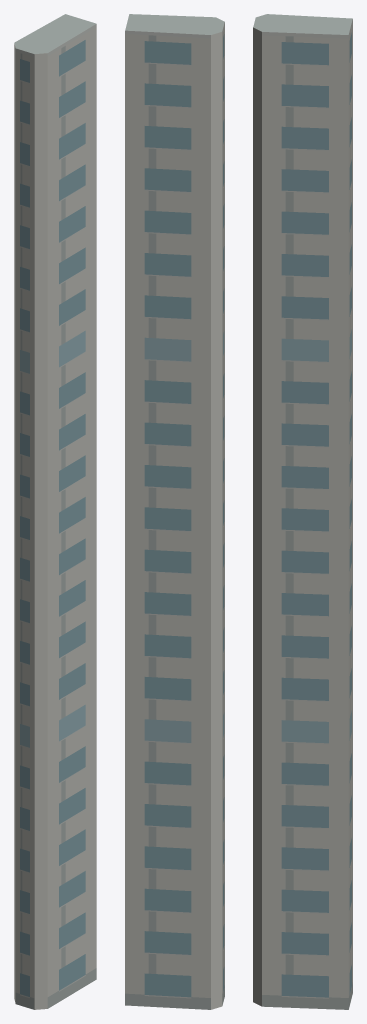
Rendered from survey-upis-32520841.glb.
The picture shows the model from 3 angles, left to right: view 1: azimuth 30°, elevation 25°; view 2: azimuth 150°, elevation 25°; view 3: azimuth 330°, elevation 25°; orthographic projection.
Visible parts, largest first — view 1: survey-upis-32520841.tmp; view 2: survey-upis-32520841.tmp; view 3: survey-upis-32520841.tmp.
Boxes of the visible parts, left/top/right/bottom form: survey-upis-32520841.tmp: left=14, top=14, right=96, bottom=1009; survey-upis-32520841.tmp: left=125, top=14, right=224, bottom=1009; survey-upis-32520841.tmp: left=253, top=14, right=352, bottom=1009.
Bounding box in the file's own units: 6.62 × 70.15 × 4.76.
